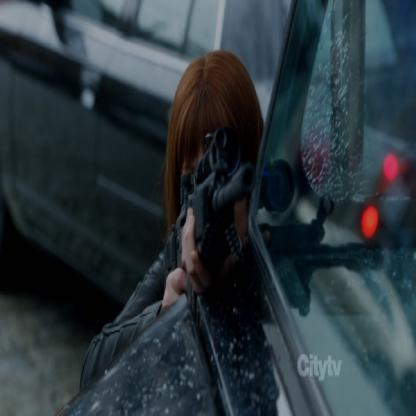Gun: (157, 121, 257, 293)
